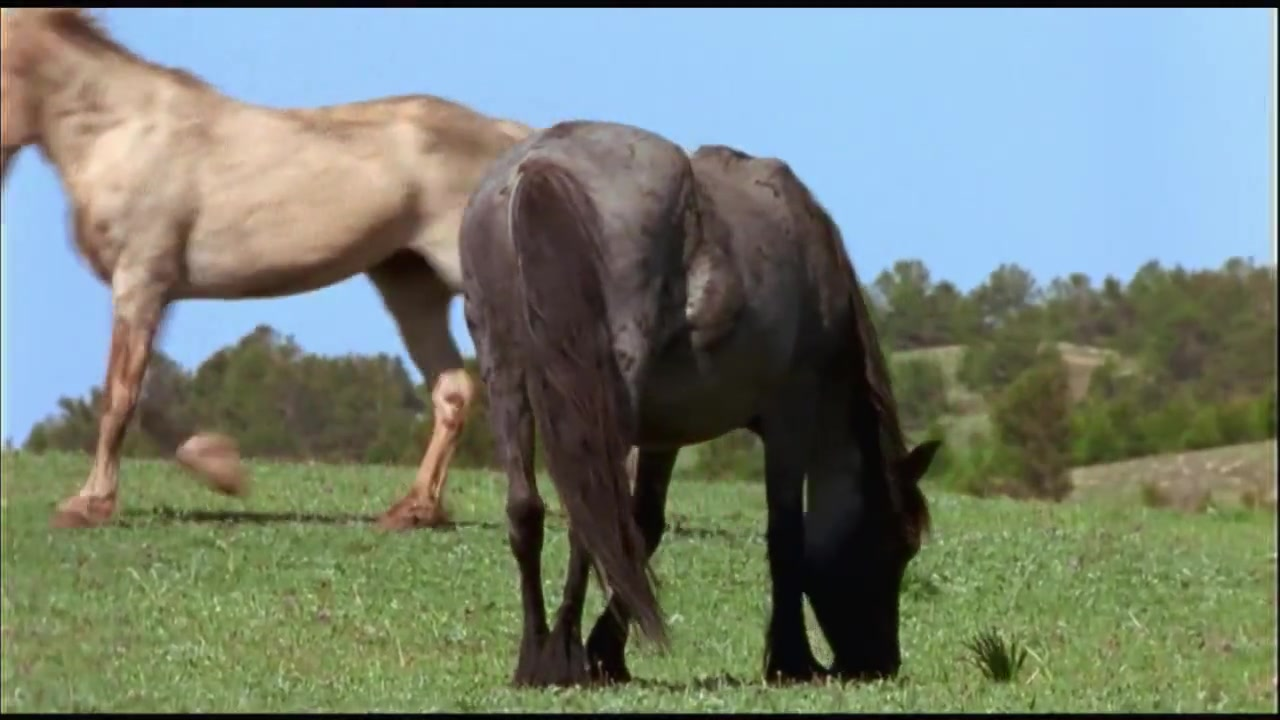horse: (458, 119, 946, 691)
